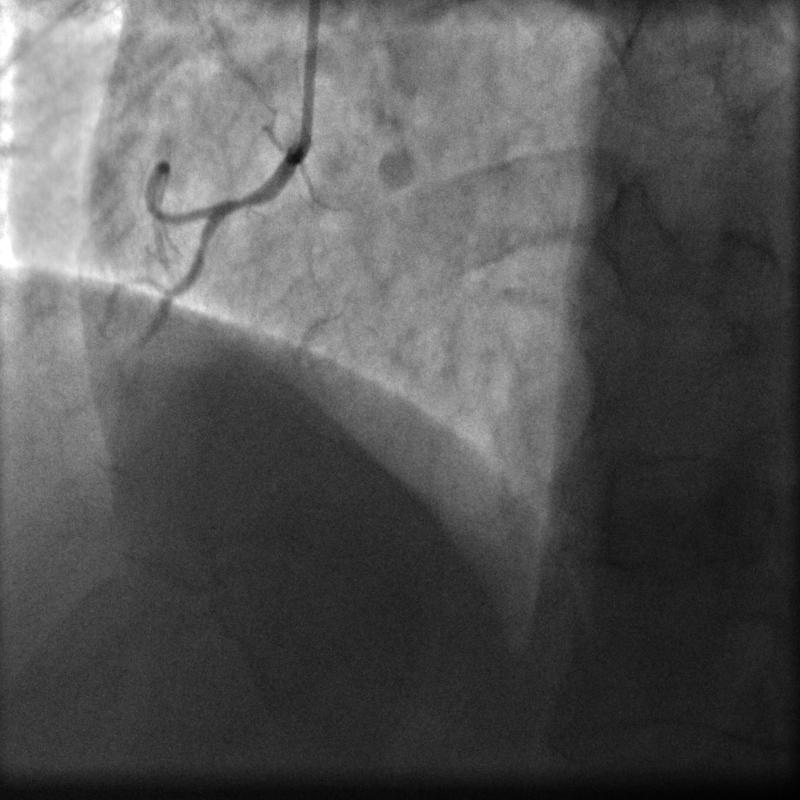Stenosis: (222, 186, 264, 224)
